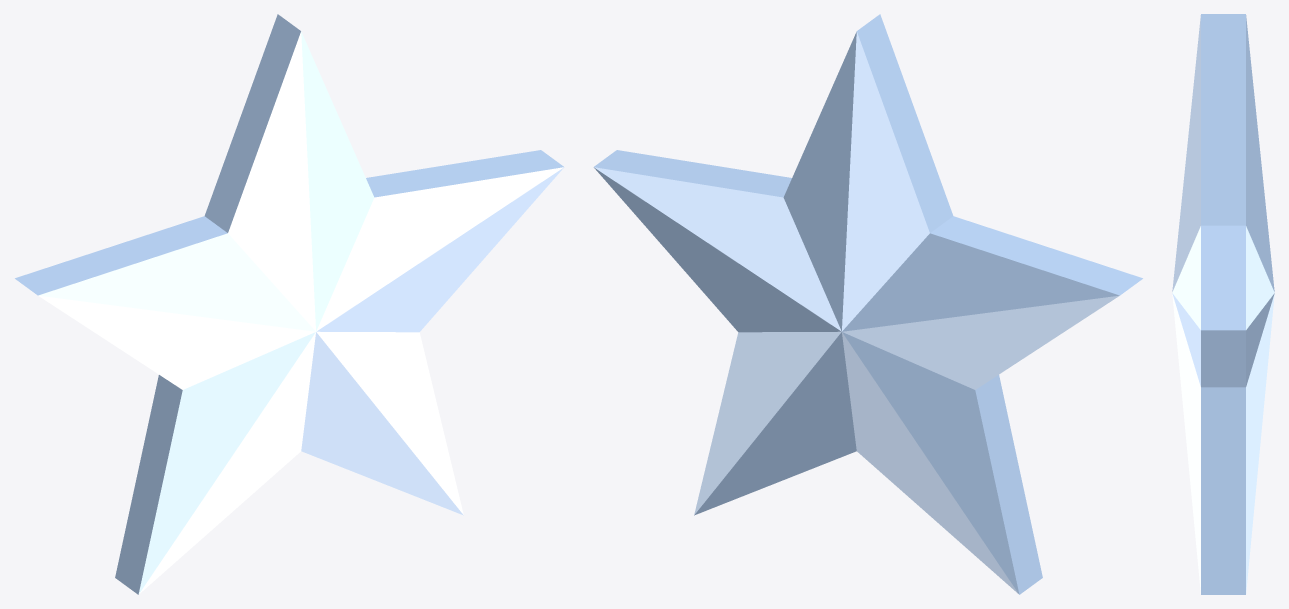
Rendered from iron-star-small.glb.
3 renders of one model, left to right at view 1: azimuth 30°, elevation 25°; view 2: azimuth 150°, elevation 25°; view 3: azimuth 270°, elevation 25°, orthographic. The views are drawn at different scales.
Parts seen in each view (by area): view 1: iron-star-small; view 2: iron-star-small; view 3: iron-star-small.
Part boxes in pixels (bbox=[...]): iron-star-small: bbox=[15, 14, 564, 594]; iron-star-small: bbox=[593, 14, 1142, 594]; iron-star-small: bbox=[1172, 14, 1274, 594].
Bounding box in the file's own units: 0.5706 × 0.5427 × 0.1.
